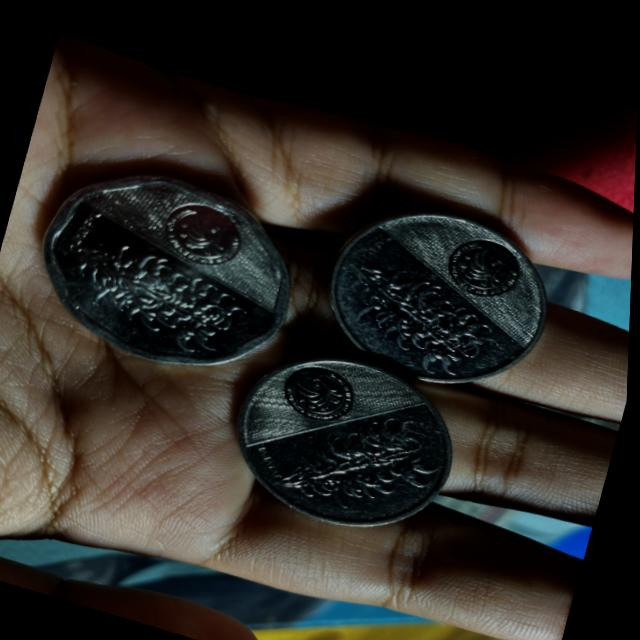5_New_Back: (47, 218, 255, 350), (321, 236, 514, 367), (283, 393, 441, 523)
